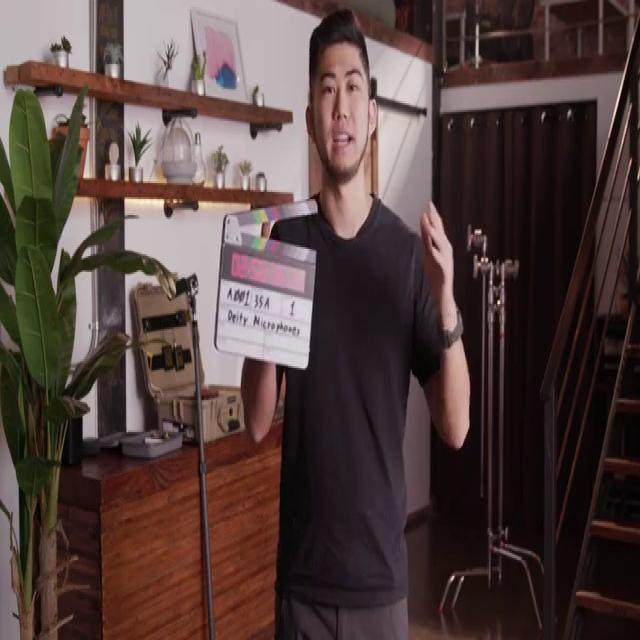Clapperboard: (212, 193, 316, 378)
